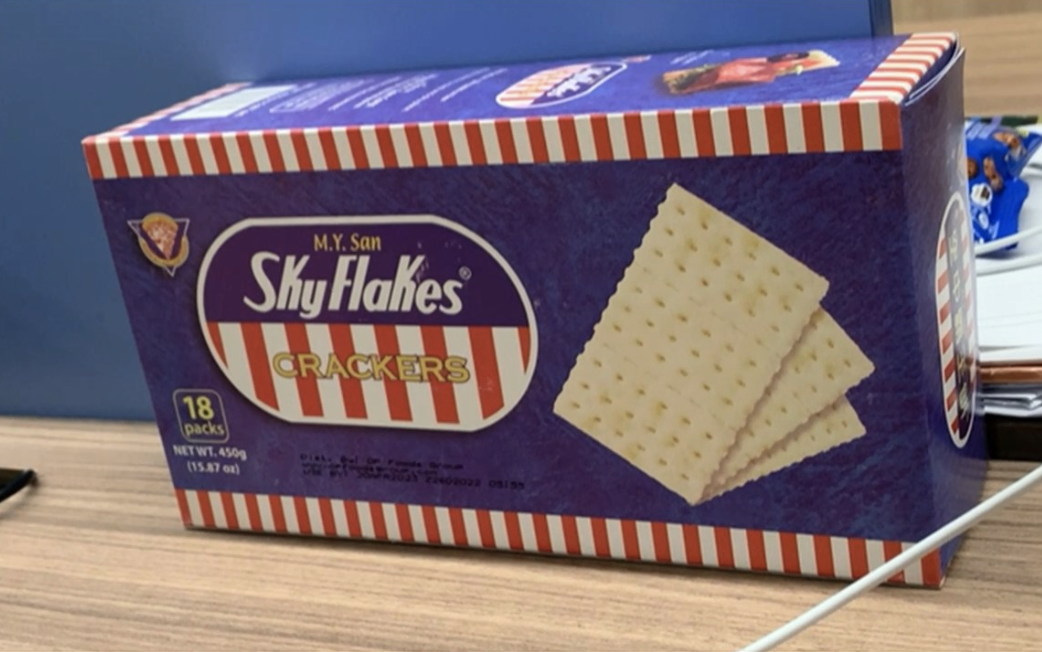crackers_450g: (145, 146, 918, 541)
